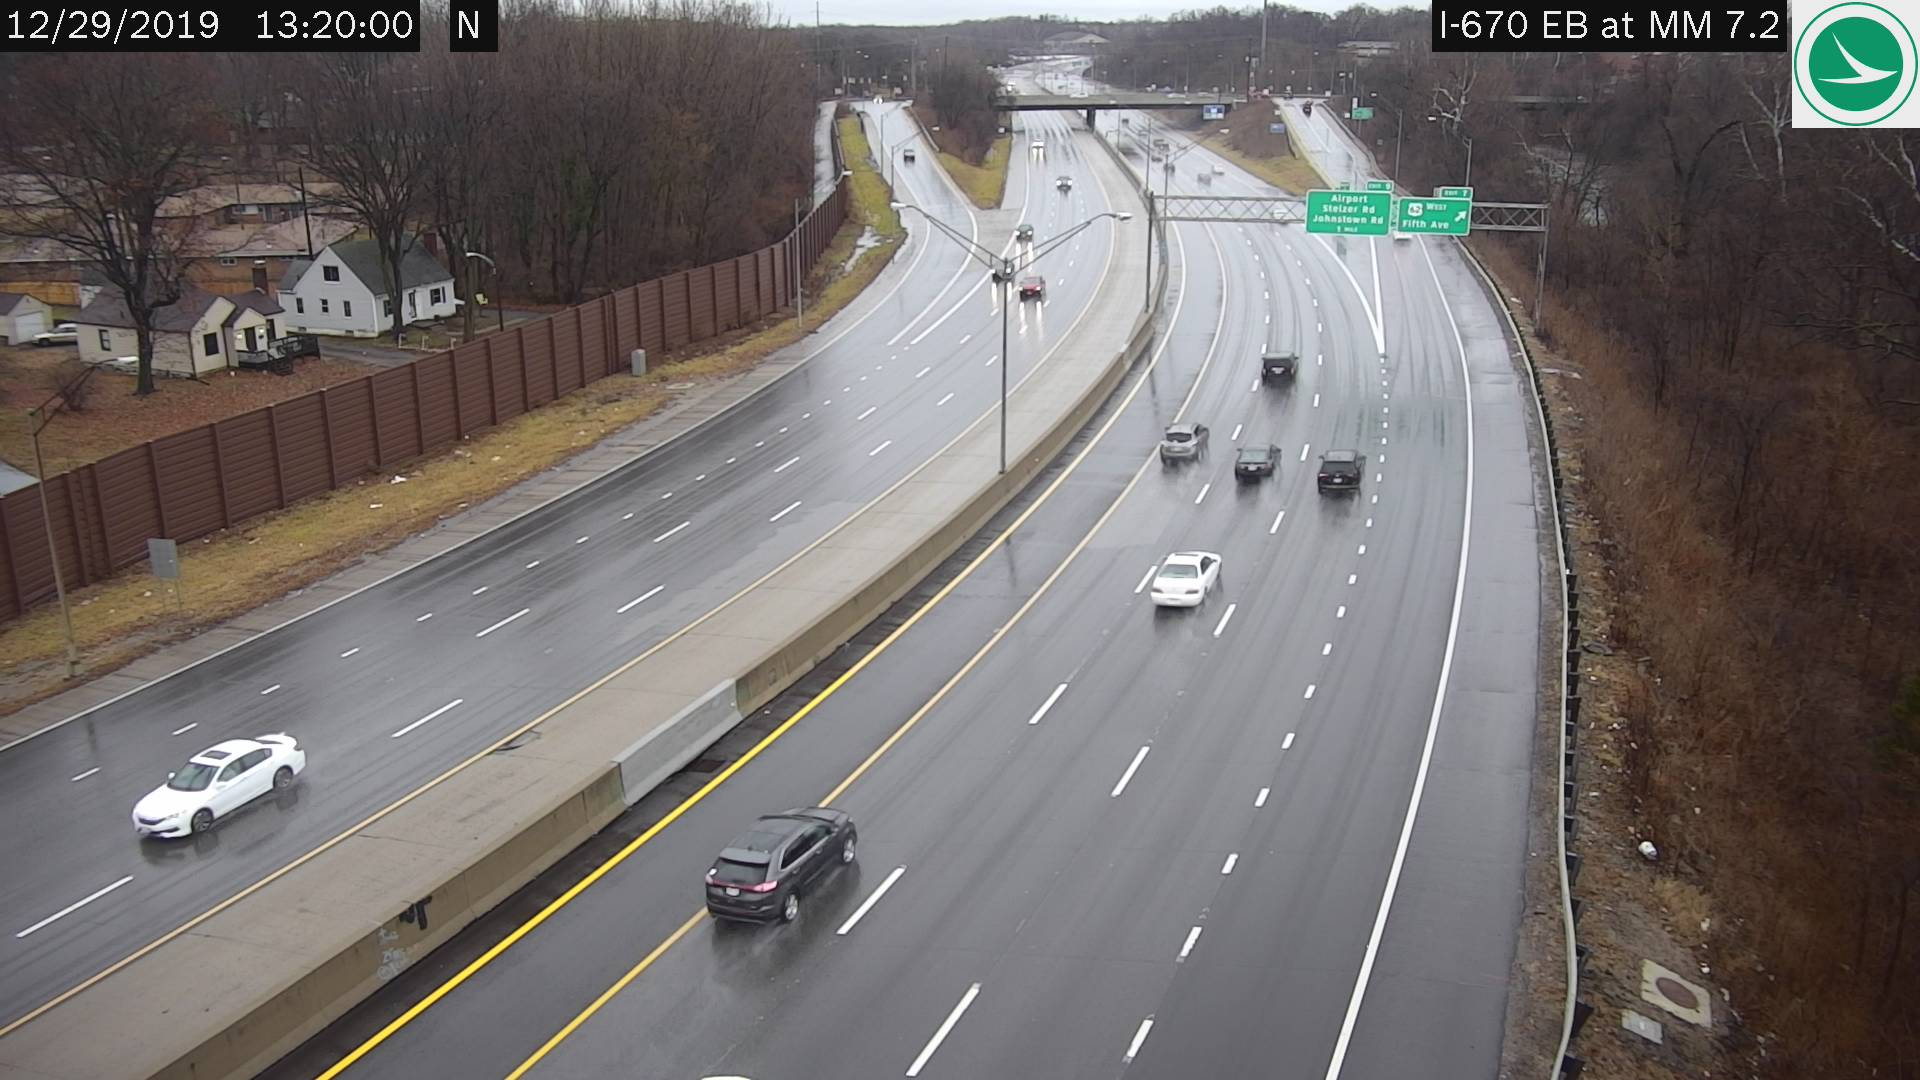car: (135, 732, 310, 844), (702, 808, 855, 932), (1150, 549, 1222, 608), (1313, 448, 1366, 496), (1162, 425, 1211, 464), (1234, 436, 1274, 480), (1262, 348, 1298, 388), (1018, 272, 1046, 301), (994, 256, 1014, 276), (1054, 171, 1069, 193), (1014, 224, 1034, 240)
